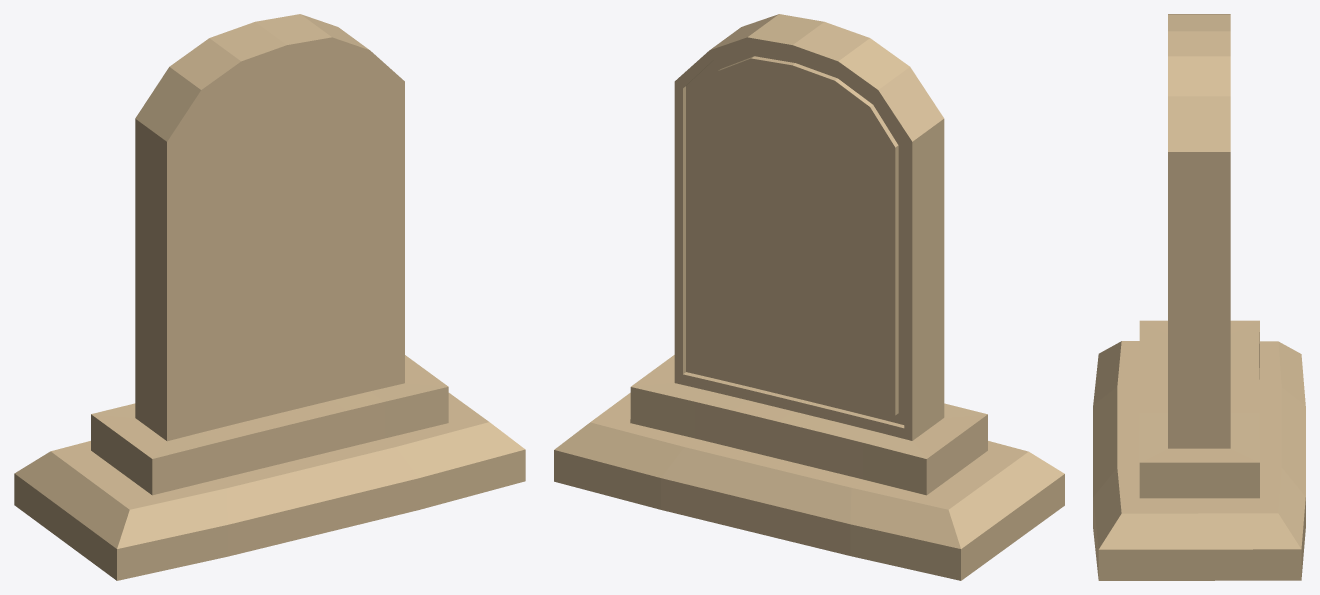
Rendered from grave.fbx.
3 views of the same model, side by side, from view 1: azimuth 30°, elevation 25°; view 2: azimuth 150°, elevation 25°; view 3: azimuth 270°, elevation 25° (orthographic).
Parts seen in each view (by area): view 1: Cube.037; view 2: Cube.037; view 3: Cube.037.
Part boxes in pixels (x1,y1,x2,y2): Cube.037: [14, 14, 525, 580]; Cube.037: [554, 14, 1064, 580]; Cube.037: [1093, 14, 1305, 580].
Bounding box in the file's own units: 230 × 501 × 539.
